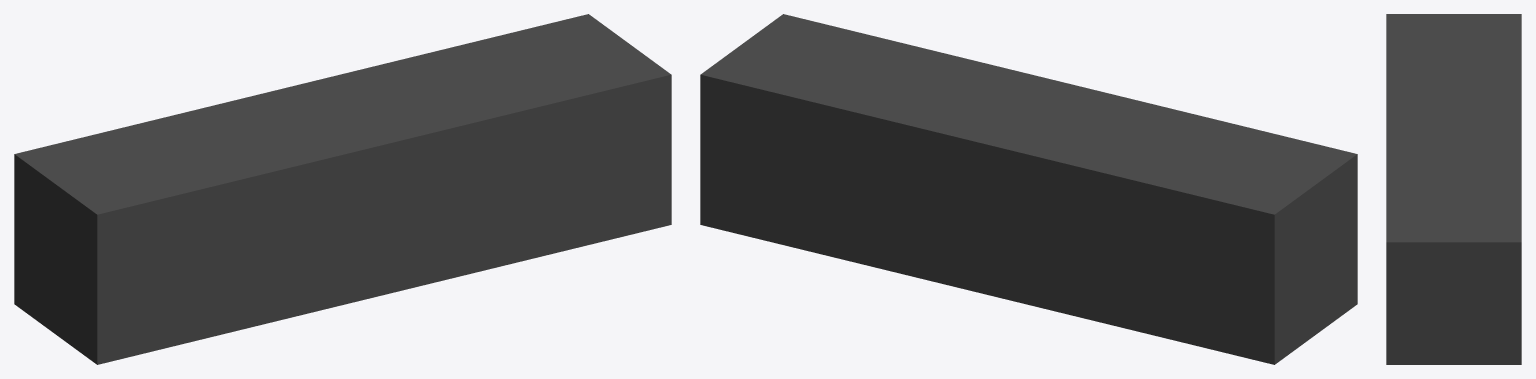
The model's file is okno-0-стена нижняя часть.obj.
3 views of the same model, side by side, from view 1: azimuth 30°, elevation 25°; view 2: azimuth 150°, elevation 25°; view 3: azimuth 270°, elevation 25° (orthographic). The views are drawn at different scales.
Parts seen in each view (by area): view 1: стена нижняя часть; view 2: стена нижняя часть; view 3: стена нижняя часть.
Boxes of the visible parts, bbox=[...] form: стена нижняя часть: bbox=[14, 14, 671, 364]; стена нижняя часть: bbox=[700, 14, 1357, 364]; стена нижняя часть: bbox=[1386, 14, 1521, 364].
Size of the model in its own units: 0.4 by 0.1 by 0.1.
1 material, 1 textured.
